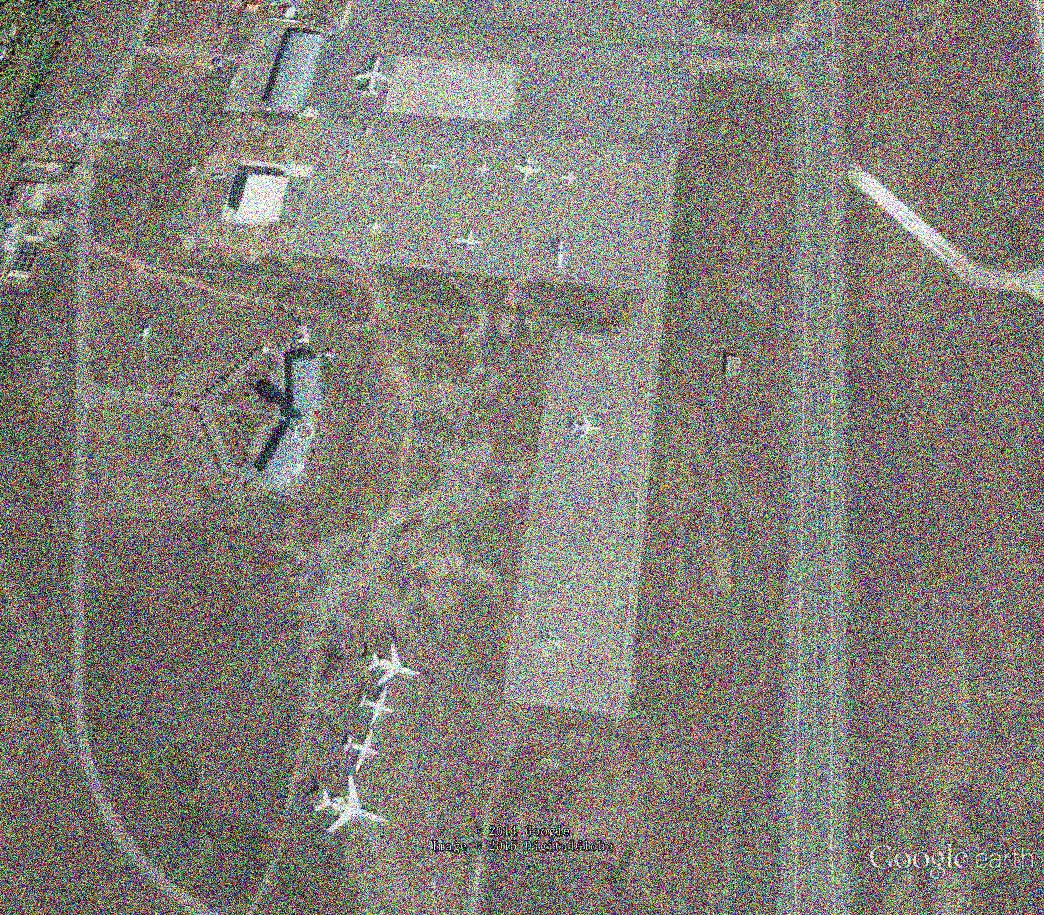aircraft: (314, 772, 390, 837), (366, 640, 424, 687), (349, 54, 397, 98), (341, 727, 382, 776), (357, 685, 397, 727), (569, 414, 606, 444), (511, 158, 544, 185), (453, 230, 486, 253), (365, 216, 386, 237), (559, 169, 580, 188), (420, 158, 444, 173), (379, 152, 402, 167), (474, 162, 492, 180)
